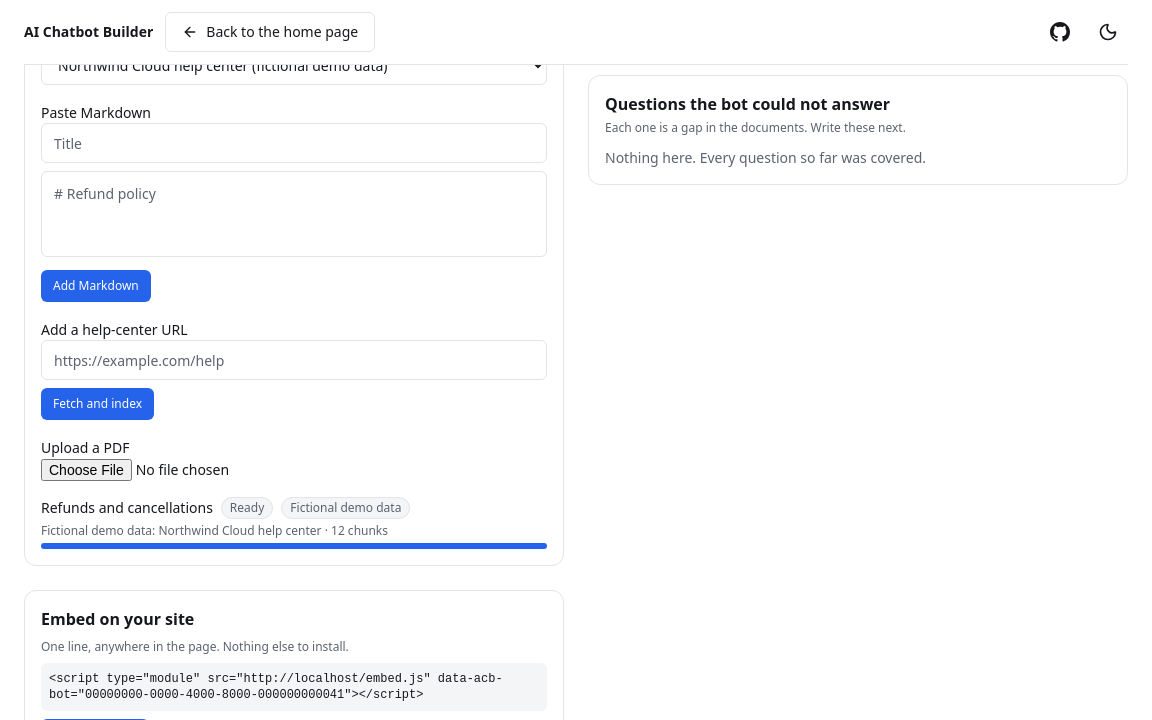
Test: 5.3 uploads, the doc-set picker and indexing progress › rejects a URL that is not a URL without sending it
(page scrolled)
Type "help.example.com" into the field labelled "Add a help-center URL" at (294, 360), box left=41, top=340, right=547, bottom=380
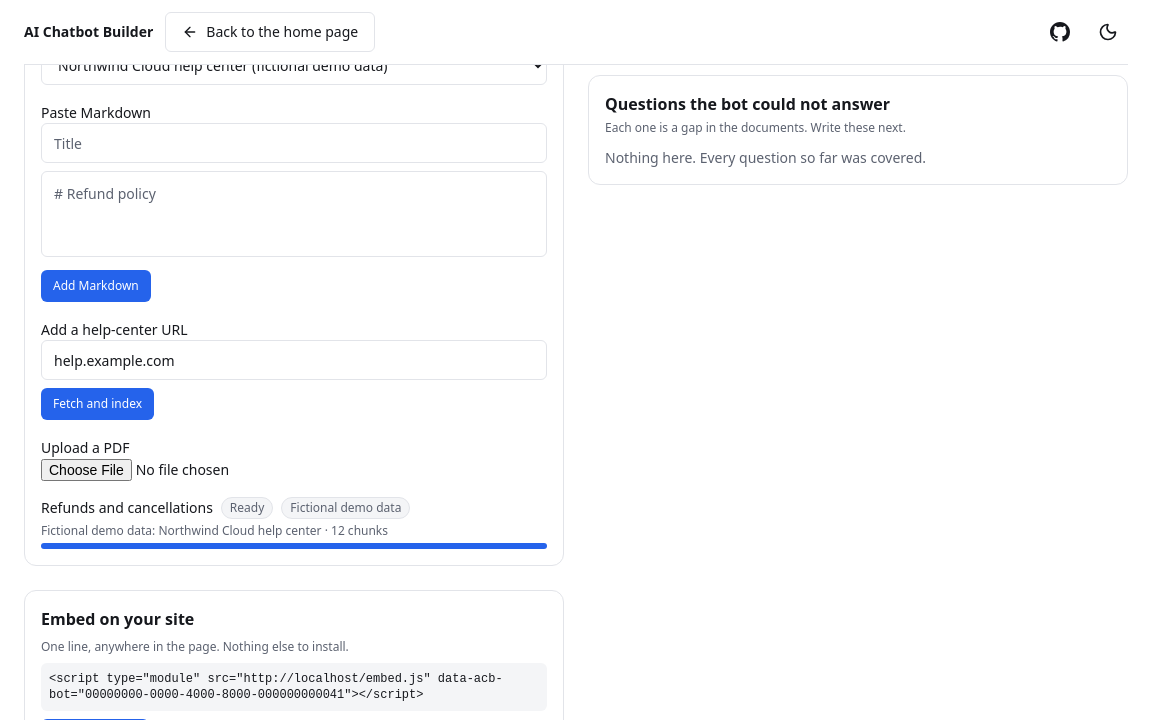
Click the button "Fetch and index" at (98, 404), box left=41, top=388, right=154, bottom=420
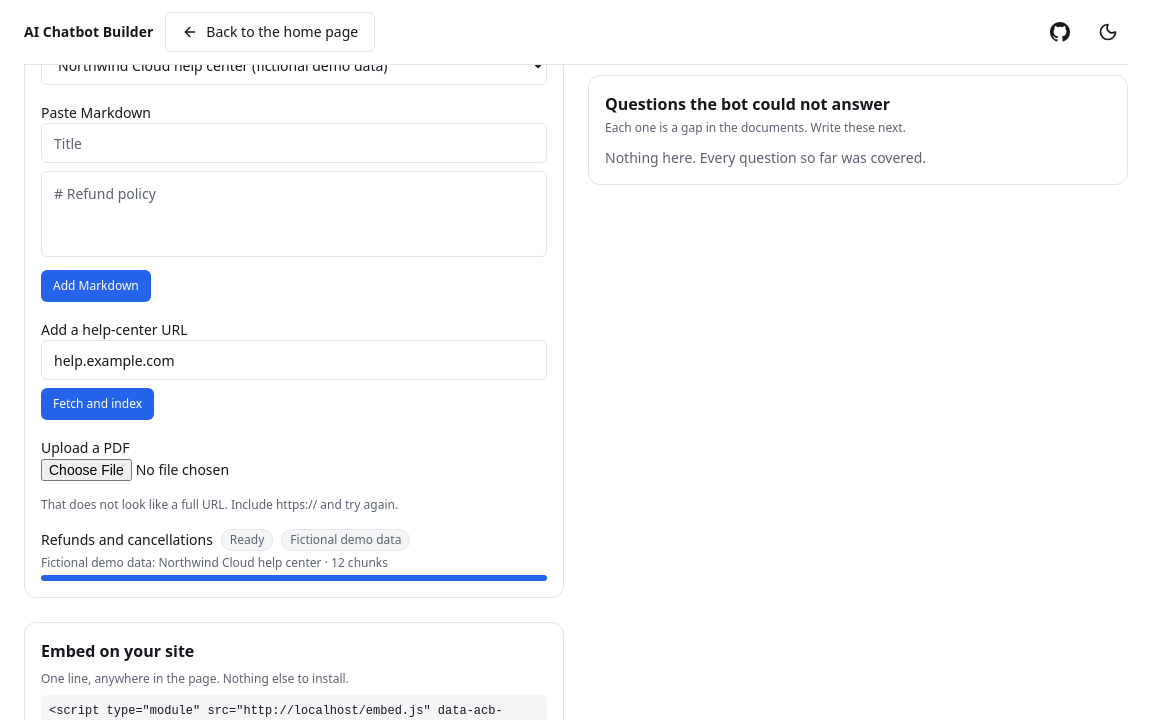
Check: the text "That does not look like a full URL. Include https:// and try again." is shown, box left=41, top=496, right=398, bottom=513
